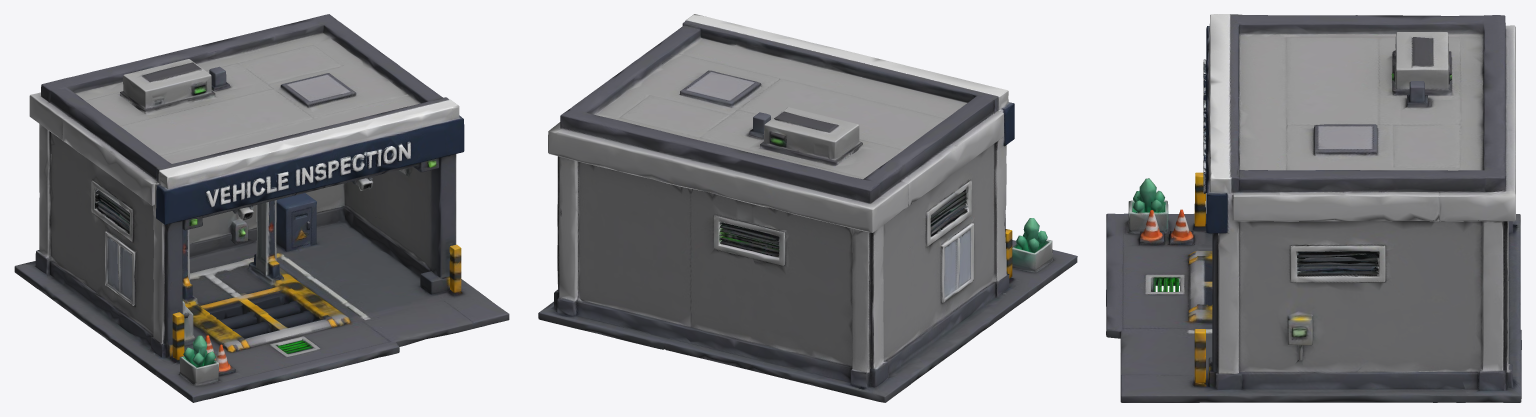
The model's file is vehicle_inspection_1k_real.glb.
The picture shows the model from 3 angles, left to right: view 1: azimuth 30°, elevation 25°; view 2: azimuth 150°, elevation 25°; view 3: azimuth 270°, elevation 25°; orthographic projection. The views are drawn at different scales.
Parts seen in each view (by area): view 1: tripo_node_27302e07-28d3-44c9-a156-e4e8b00f8b4b; view 2: tripo_node_27302e07-28d3-44c9-a156-e4e8b00f8b4b; view 3: tripo_node_27302e07-28d3-44c9-a156-e4e8b00f8b4b.
Boxes of the visible parts, x1,y1,x2,y2 form: tripo_node_27302e07-28d3-44c9-a156-e4e8b00f8b4b: (14, 14, 509, 402); tripo_node_27302e07-28d3-44c9-a156-e4e8b00f8b4b: (538, 14, 1077, 402); tripo_node_27302e07-28d3-44c9-a156-e4e8b00f8b4b: (1106, 14, 1521, 402).
Bounding box in the file's own units: 1 × 0.6128 × 0.964.
Materials: 1 (1 with a texture image).
